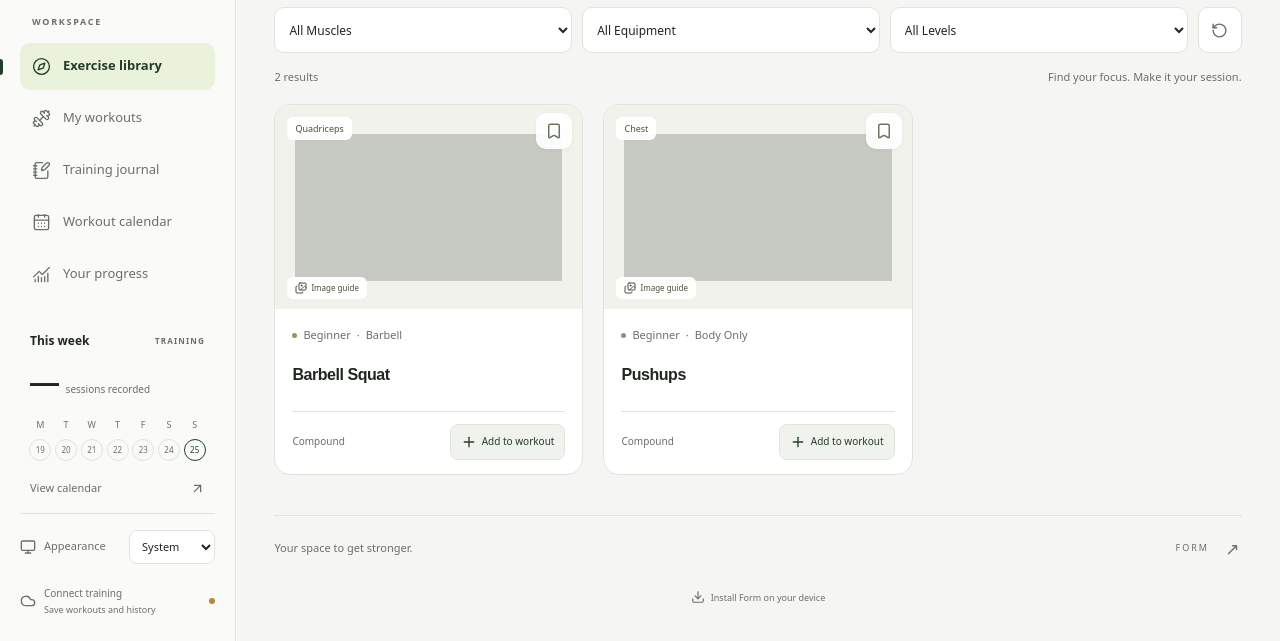
Test: Exercise discovery and draft behavior › adds a draft movement to My exercises immediately without duplicating it
(page scrolled)
Expected: the button "Pushups" is shown, [622,353,686,397]
Click the button with aria-label "Add Barbell Squat to workout" at point(508, 442), box [450,424,566,460]
(page scrolled)
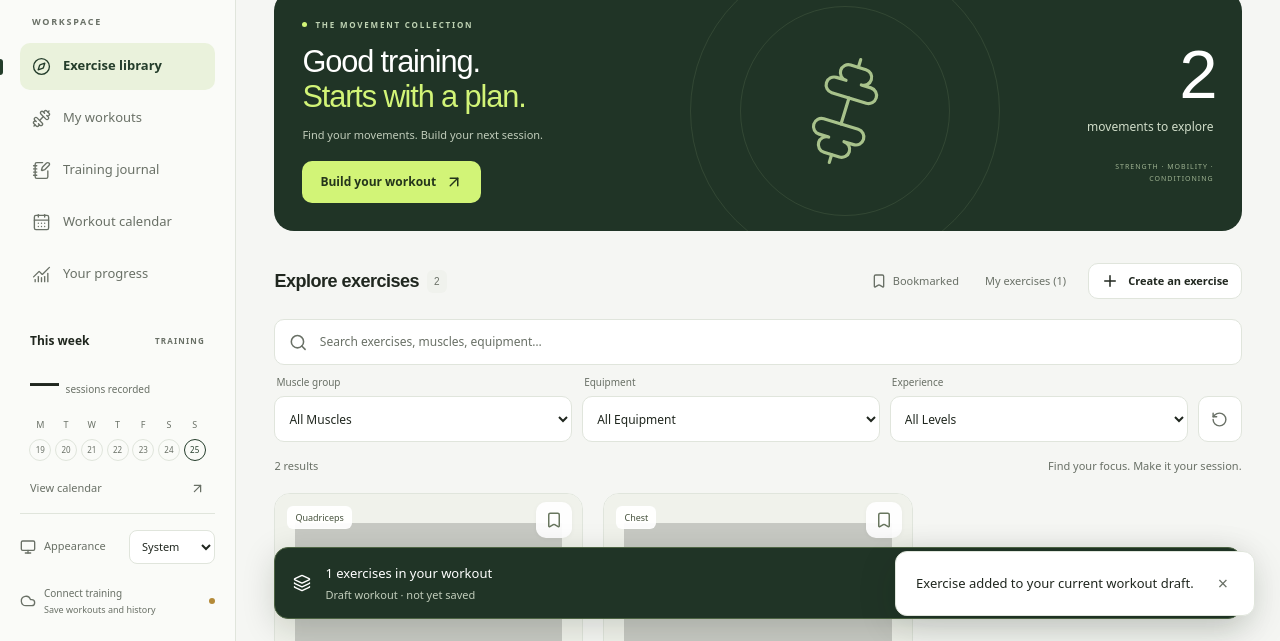
Click the button "My exercises (1)" at point(1026, 281), box [975,263,1076,299]
(page scrolled)
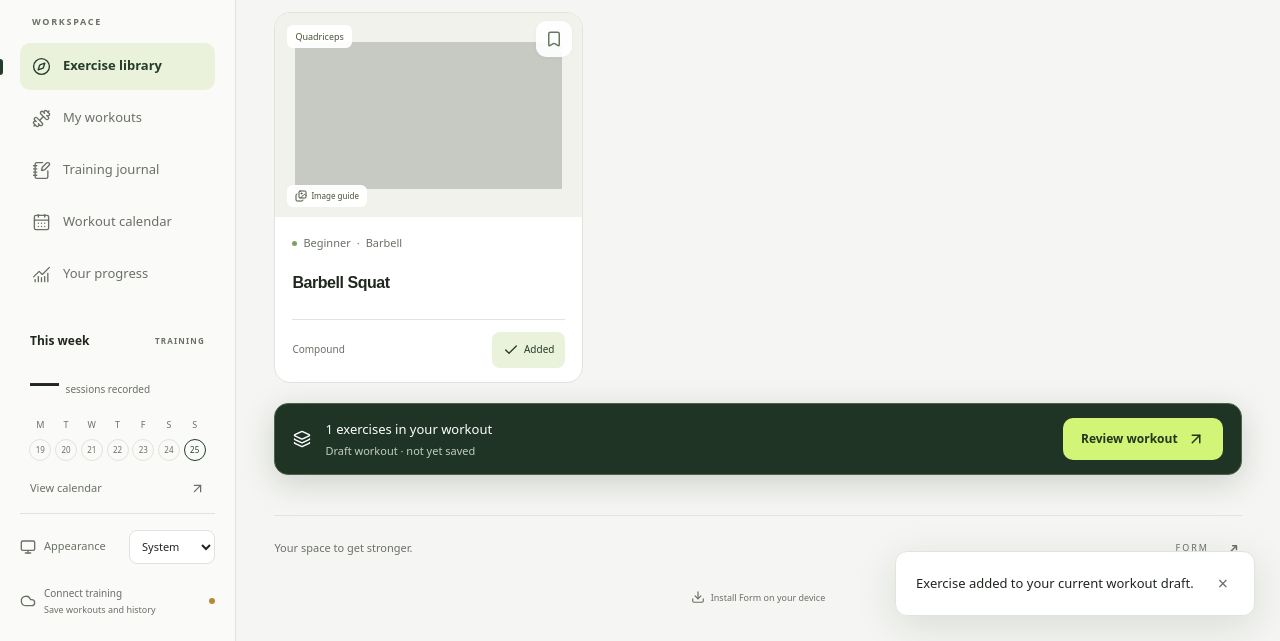
Expected: the number of buttons "Barbell Squat" is 1, [292,261,390,305]
